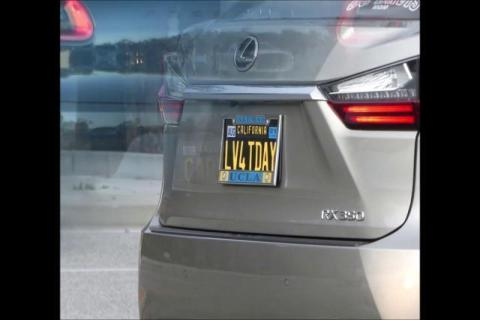LicensePlate: (221, 118, 280, 187)
